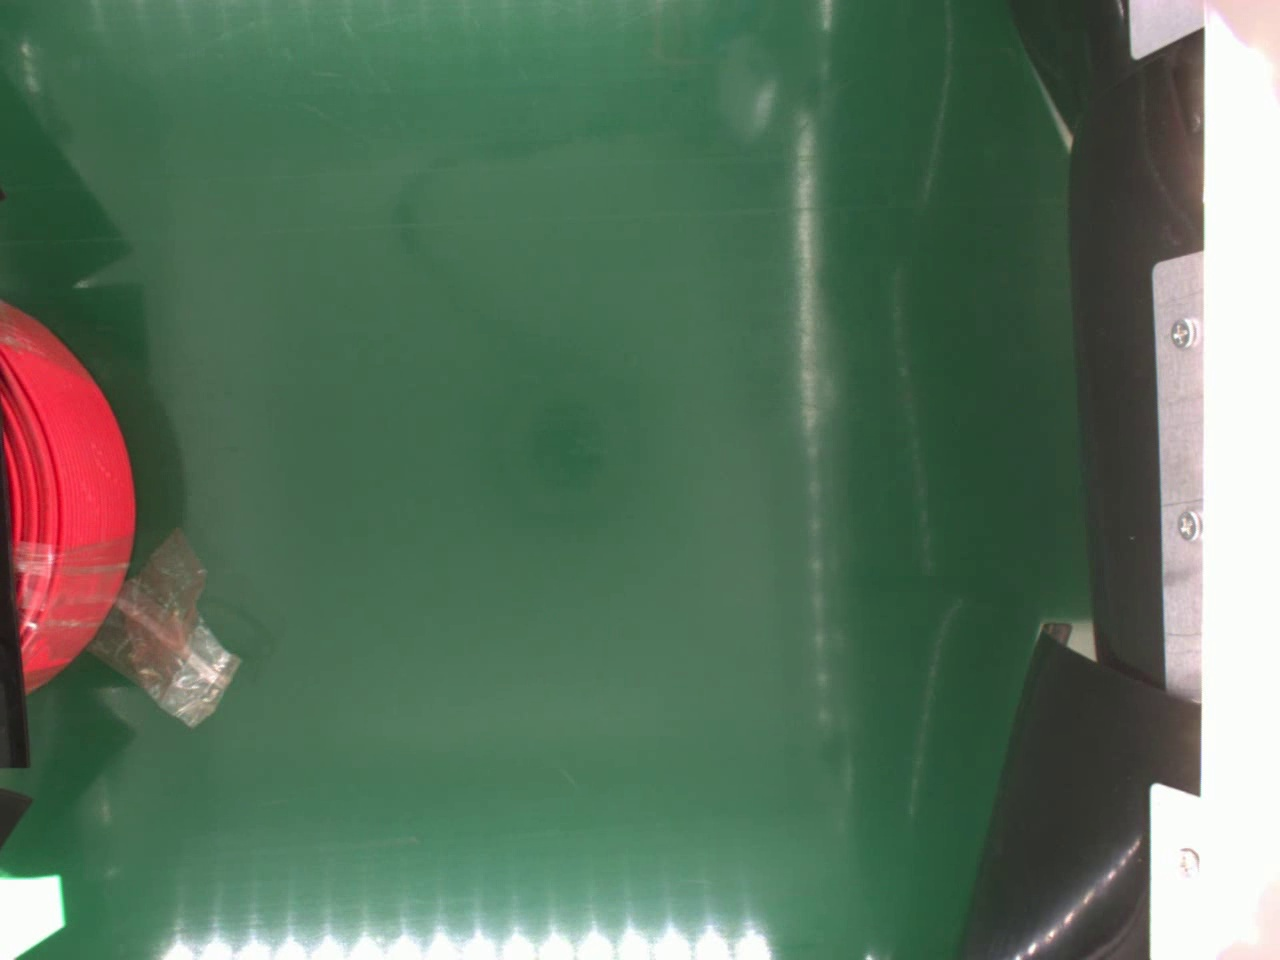red: (0, 290, 138, 701)
